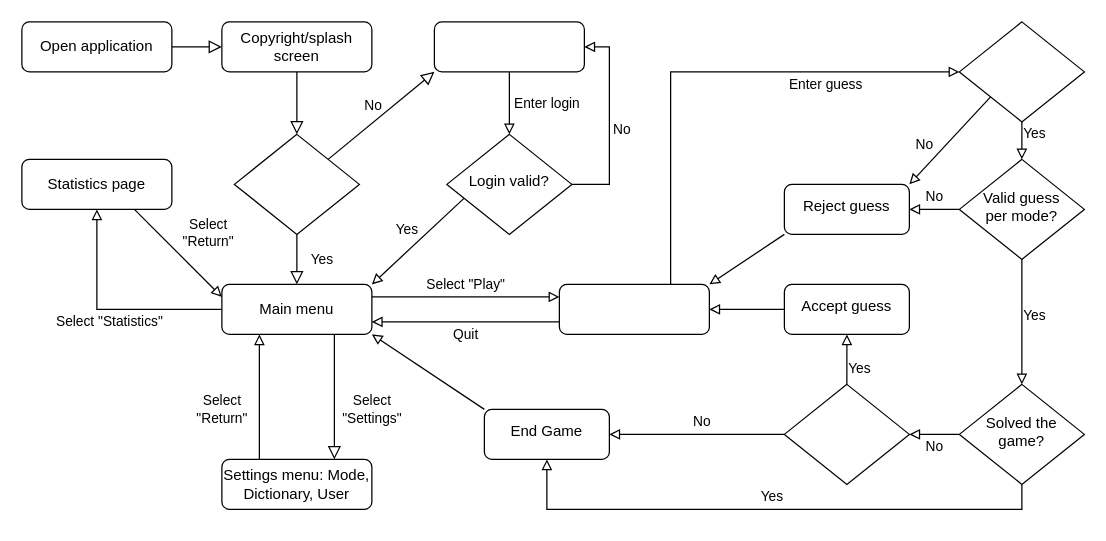
The diagram is 1106 pixels wide and 541 high, and some of its shapes have lost their labels. The centre of each missing label's shape, as x and y in pixels:
"Game" goes at pixel 633 308.
"Guesses remaining?" goes at pixel 846 433.
"Legal word?" goes at pixel 1021 71.
"Logged in?" goes at pixel 296 183.
"Login screen" goes at pixel 508 46.
